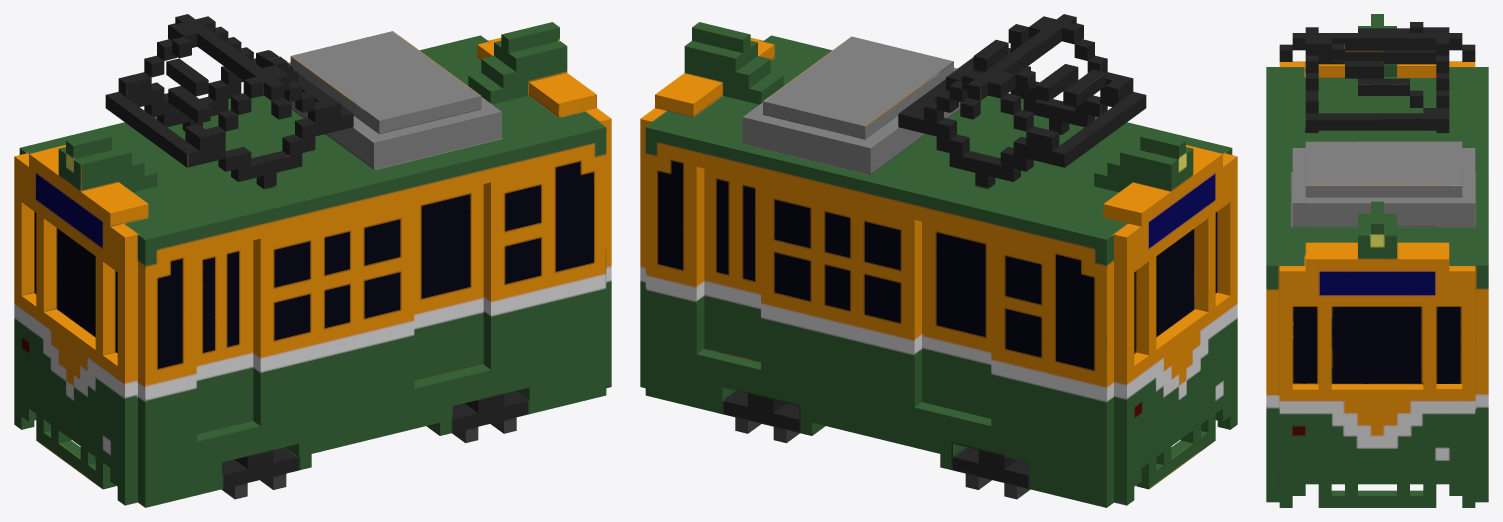
Rendered from kagoshimashiden1.glb.
3 views of the same model, side by side, from view 1: azimuth 30°, elevation 25°; view 2: azimuth 150°, elevation 25°; view 3: azimuth 270°, elevation 25° (orthographic). The views are drawn at different scales.
Visible parts, largest first — view 1: kagoshimashiden1; view 2: kagoshimashiden1; view 3: kagoshimashiden1.
Part boxes in pixels (x1,y1,x2,y2): kagoshimashiden1: (14, 14, 611, 507); kagoshimashiden1: (640, 14, 1237, 507); kagoshimashiden1: (1266, 14, 1488, 507).
Bounding box in the file's own units: 0.76 × 0.58 × 0.34.
1 material, 1 textured.
